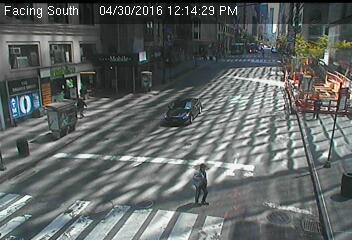neg: (52, 39, 75, 70), (39, 104, 58, 128), (19, 46, 37, 69), (45, 36, 61, 57)
pos: (183, 156, 221, 208), (306, 92, 330, 124), (71, 94, 92, 122)
